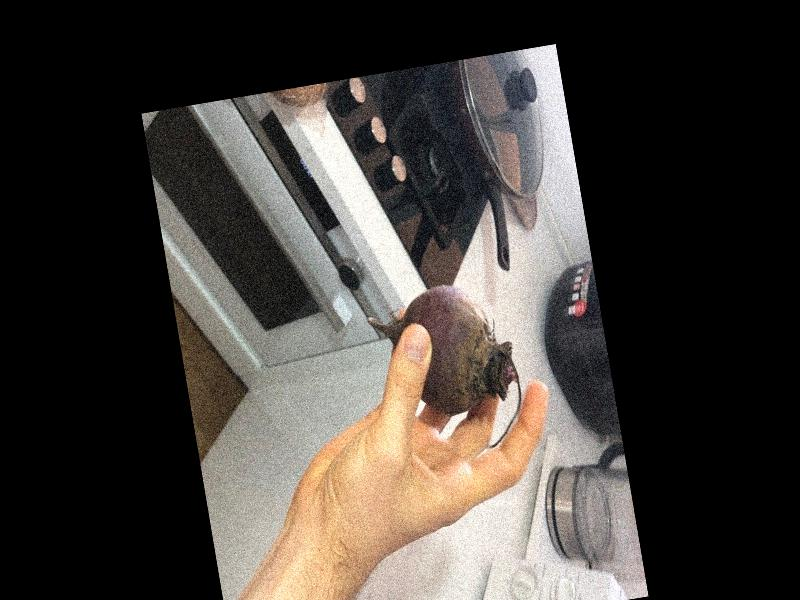Beet: (364, 276, 528, 462)
